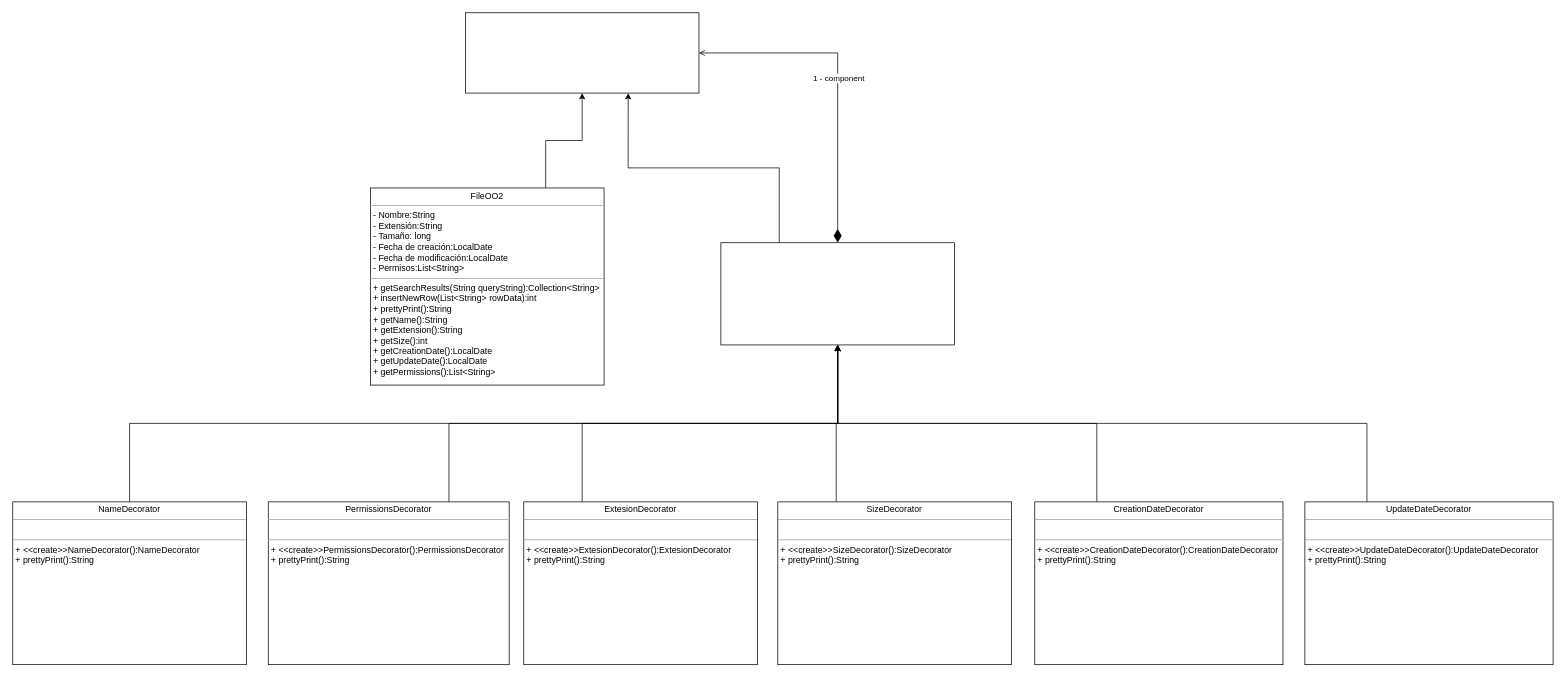
Image size: 1566x677. Some labels were removed from this diagram. Each missing label, with the box of its shape:
<<Interface>> Component + prettyPrint():string: (465, 12, 699, 93)
Decorator + <<create>>Decorator():Decorator + getBaseComponent(): FileOO2: (720, 242, 954, 345)
